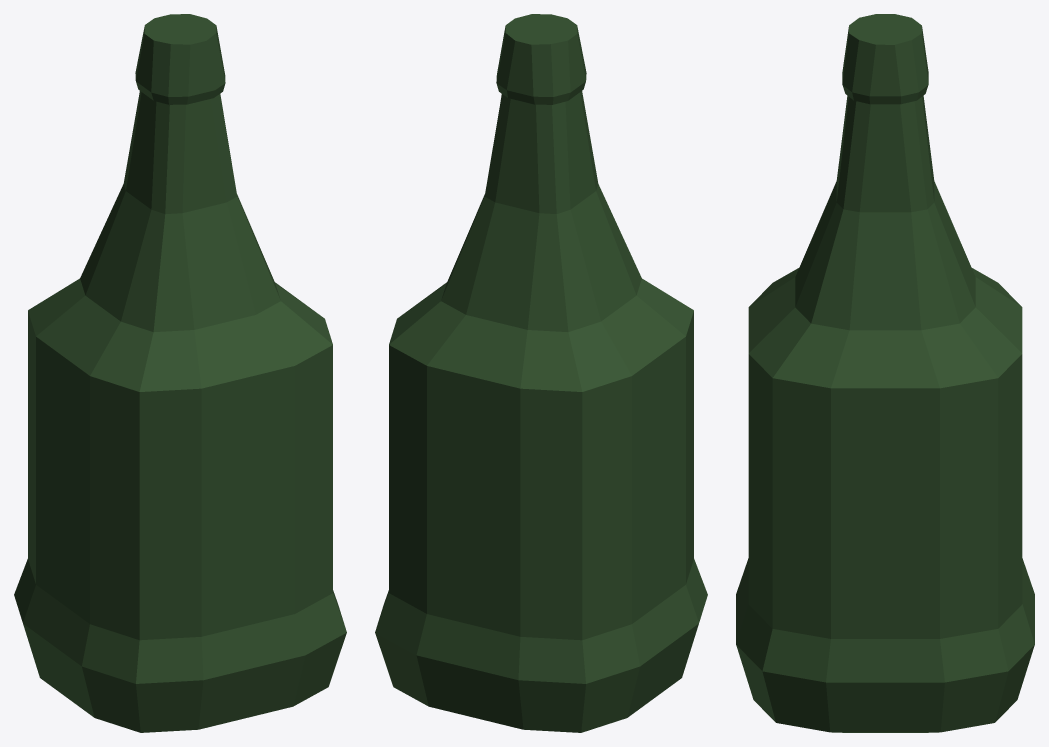
File: Bottle_2.fbx
The picture shows the model from 3 angles, left to right: view 1: azimuth 30°, elevation 25°; view 2: azimuth 150°, elevation 25°; view 3: azimuth 270°, elevation 25°; orthographic projection.
Visible parts, largest first — view 1: Bottle_2; view 2: Bottle_2; view 3: Bottle_2.
Boxes of the visible parts, x1,y1,x2,y2 form: Bottle_2: (14, 14, 346, 732); Bottle_2: (375, 14, 707, 732); Bottle_2: (736, 14, 1034, 732).
Size of the model in its own units: 0.2551 by 0.2551 by 0.6324.
